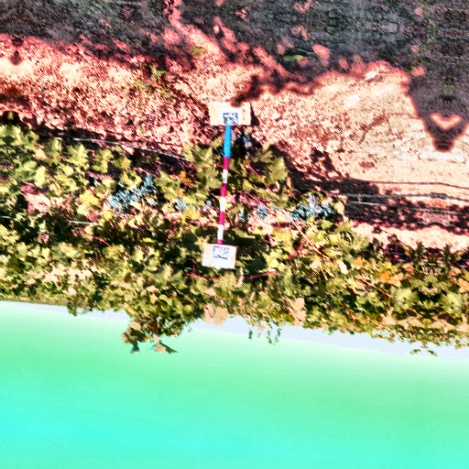QR: (221, 111, 239, 126), (212, 246, 229, 260)
